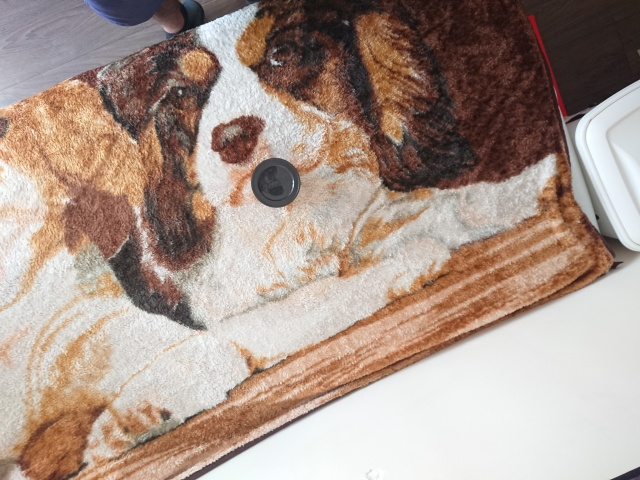Nescafe Classic 225g: (248, 155, 303, 210)
